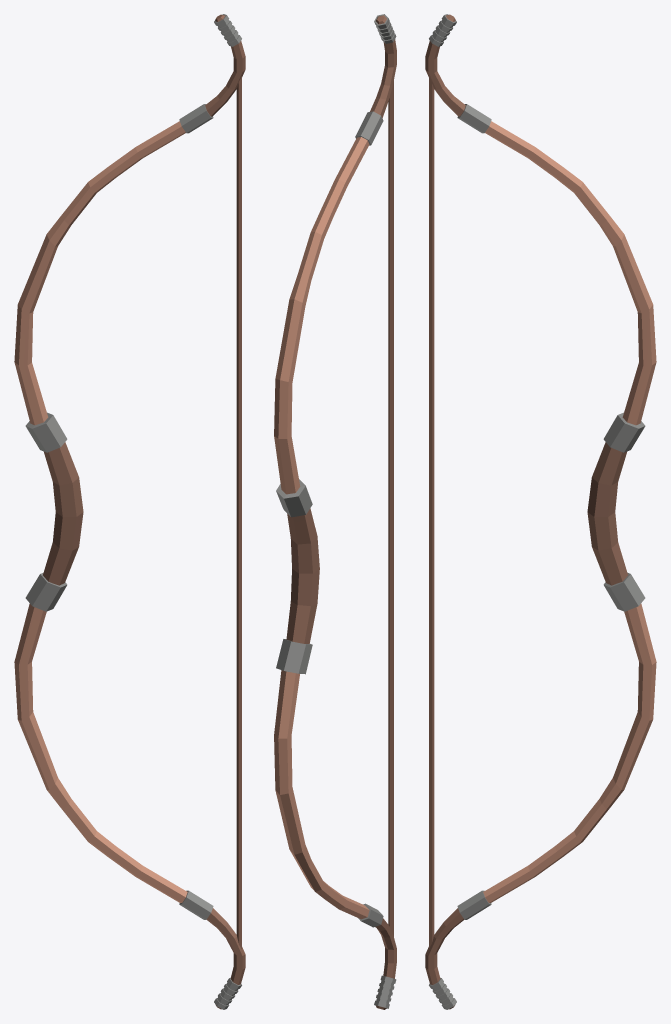
Rendered from ankers-low-poly-medieval-weapons--recurve-bow.glb.
3 renders of one model, left to right at view 1: azimuth 90°, elevation 25°; view 2: azimuth 150°, elevation 25°; view 3: azimuth 270°, elevation 25°, orthographic.
Parts seen in each view (by area): view 1: Recurve Bow; view 2: Recurve Bow; view 3: Recurve Bow.
Part boxes in pixels (<box>): Recurve Bow: <box>14,14,245,1009</box>; Recurve Bow: <box>274,14,396,1009</box>; Recurve Bow: <box>425,14,656,1009</box>.
Bounding box in the file's own units: 0.0404 × 1.67 × 0.351.
